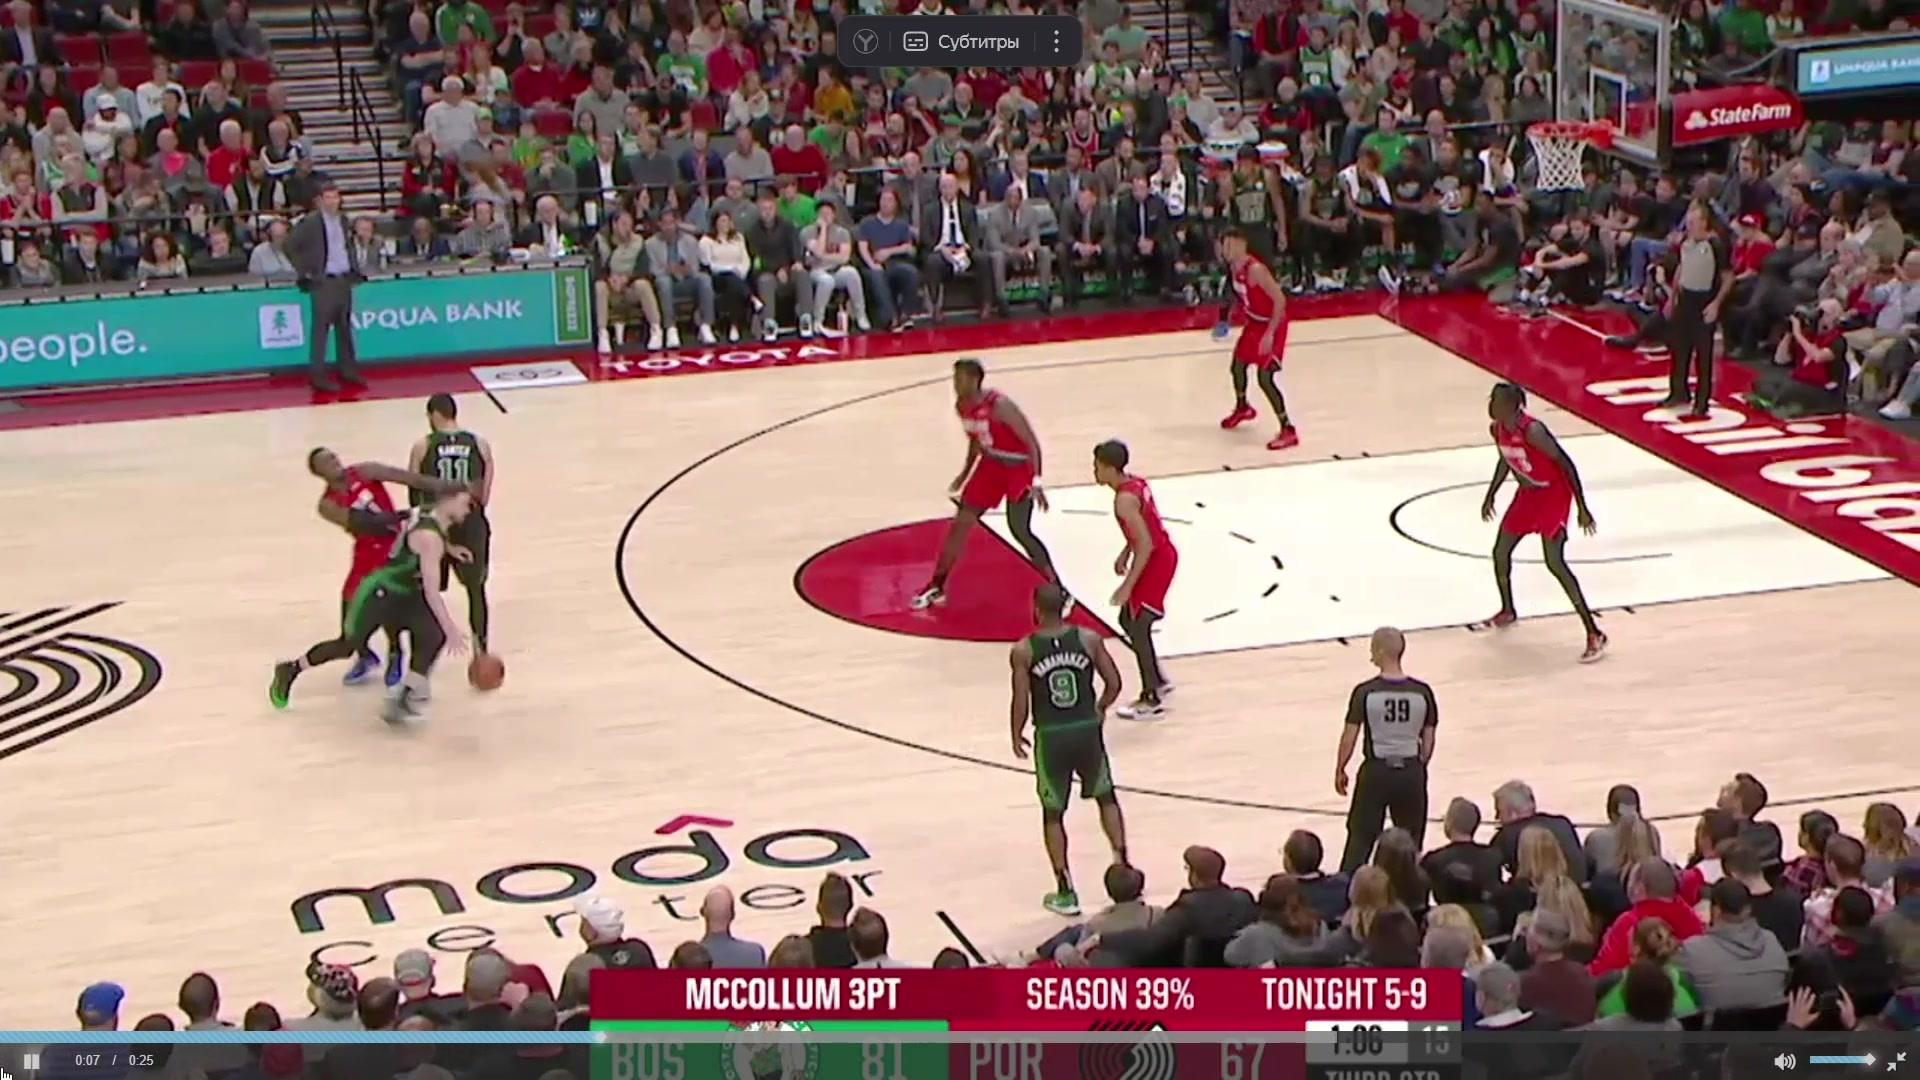foul: (276, 390, 531, 667)
